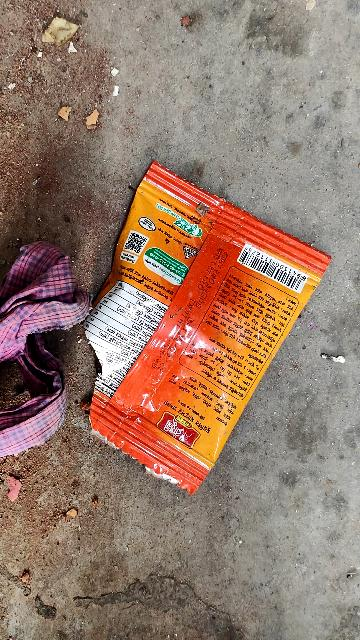packet: (26, 162, 338, 497)
